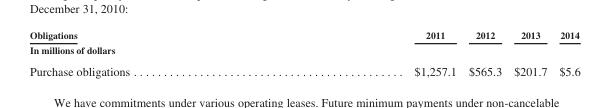table: (28, 29, 579, 77)
table column: (28, 29, 271, 77), (271, 29, 461, 77), (461, 29, 507, 77), (507, 29, 552, 77), (552, 29, 579, 77)
table column header: (28, 29, 579, 42)
table projected row header: (28, 42, 579, 59)
table row: (28, 59, 579, 77), (28, 42, 579, 59), (28, 29, 579, 42)
